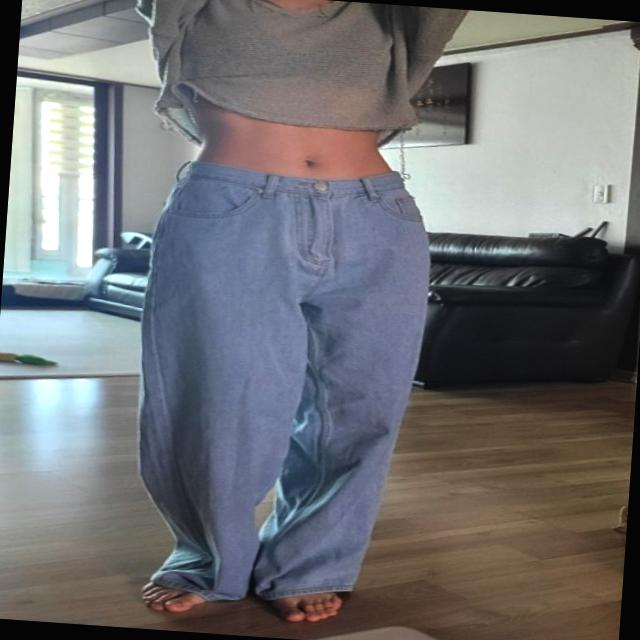denimpants: (113, 150, 440, 606)
longsleeve: (101, 0, 493, 161)
